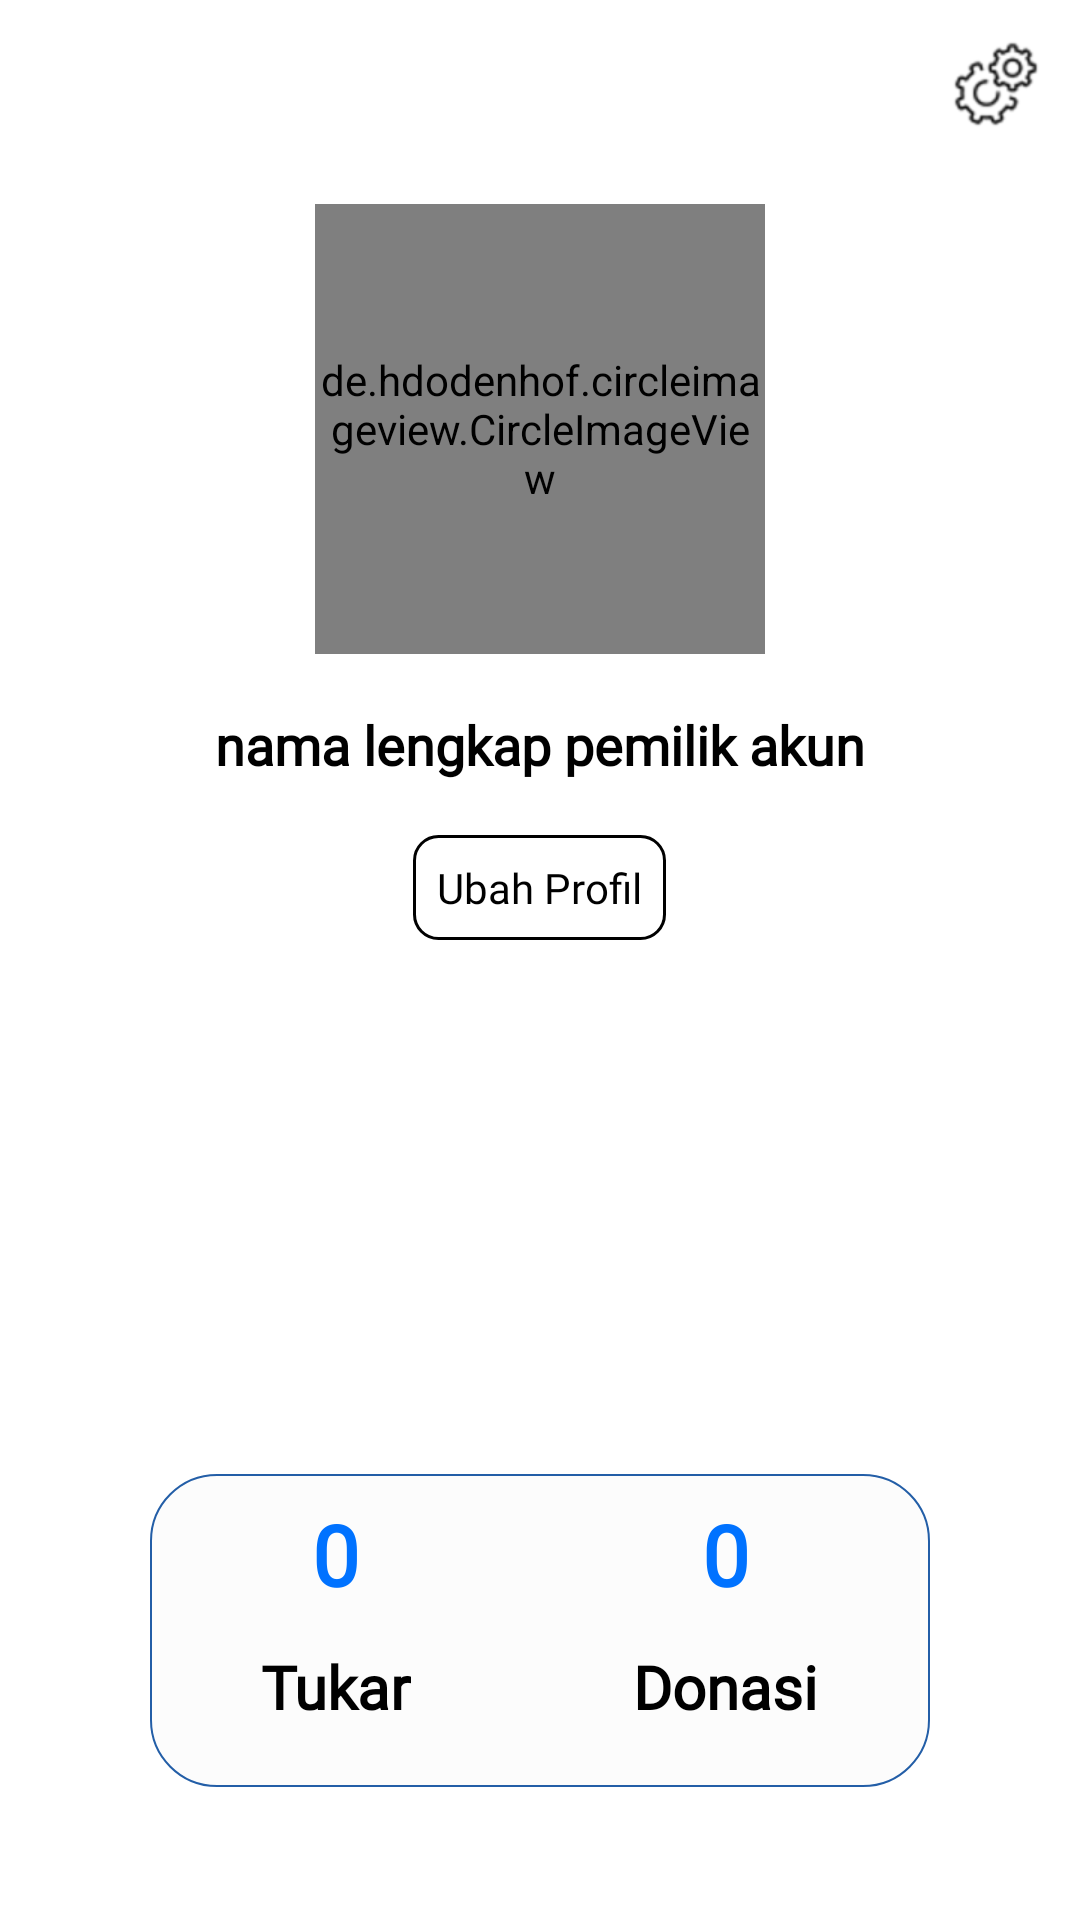

Where to tap for icons on this 1080w x 1920h app screen, as [x,y]:
settings: [996,83]
